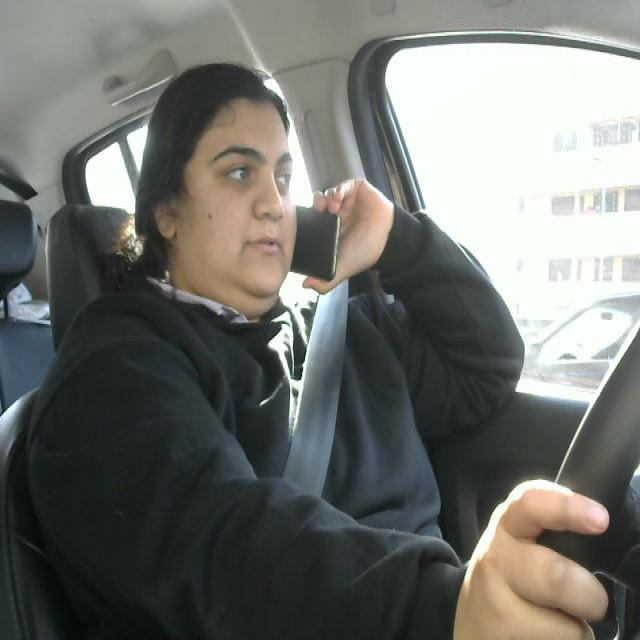mobile use: (285, 200, 344, 288)
